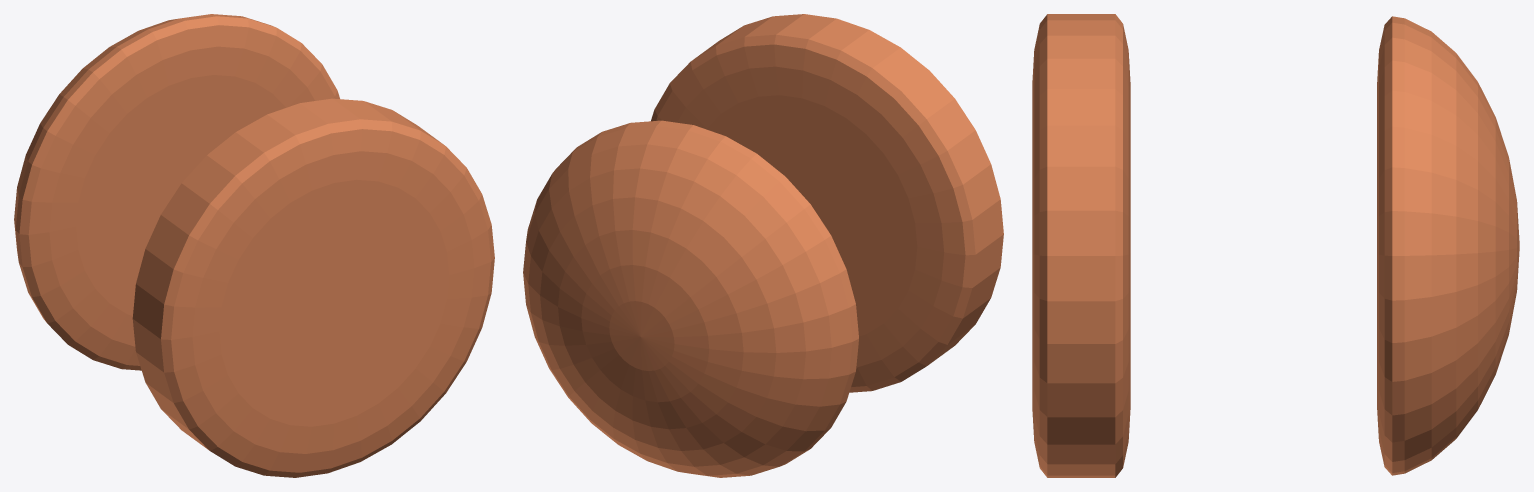
The model's file is bread_2.fbx.
3 renders of one model, left to right at view 1: azimuth 30°, elevation 25°; view 2: azimuth 150°, elevation 25°; view 3: azimuth 270°, elevation 25°, orthographic. The views are drawn at different scales.
Visible parts, largest first — view 1: Cylinder.001; view 2: Cylinder.001; view 3: Cylinder.001.
Boxes of the visible parts, x1,y1,x2,y2 form: Cylinder.001: (14, 14, 494, 477); Cylinder.001: (523, 14, 1003, 477); Cylinder.001: (1032, 14, 1519, 477).
Bounding box in the file's own units: 2711 × 2711 × 2847.
